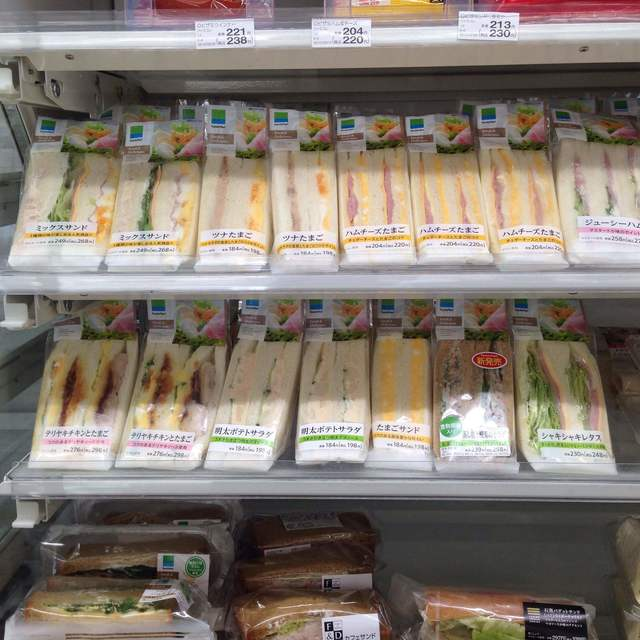sandwich: (498, 298, 626, 481), (118, 302, 228, 474), (7, 107, 120, 272), (276, 303, 382, 476), (472, 107, 574, 282), (401, 107, 501, 280), (26, 311, 130, 474), (426, 302, 521, 479), (327, 106, 424, 279), (544, 101, 636, 282), (354, 302, 444, 477), (185, 105, 273, 278), (111, 105, 198, 276), (385, 573, 607, 640), (263, 105, 344, 279), (9, 574, 222, 640), (209, 303, 288, 475), (219, 582, 395, 638)
